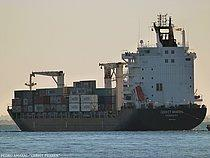Ship: (5, 14, 209, 136)
